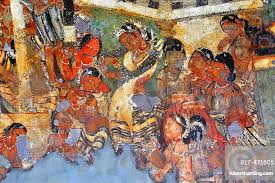Mahajanaka: (12, 5, 267, 176), (66, 16, 222, 166)
